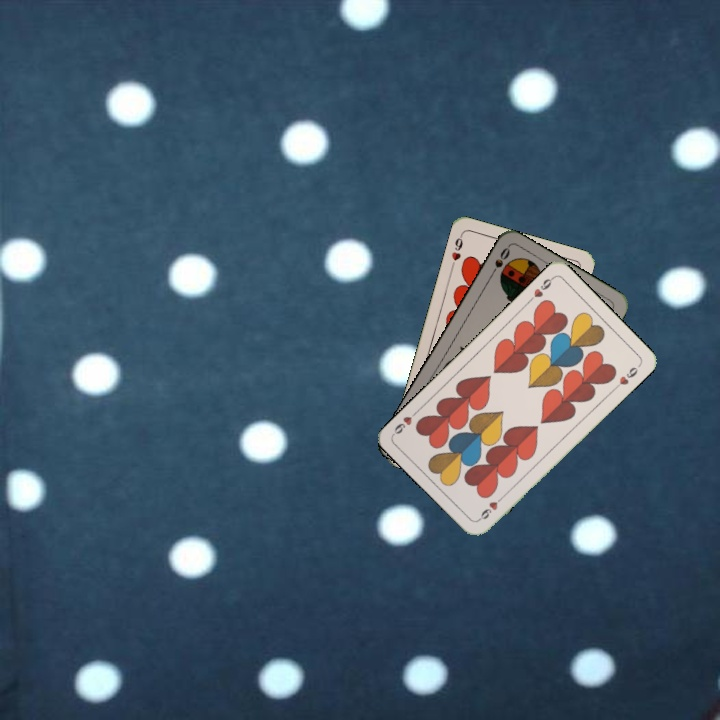H9: (524, 273, 557, 305), (474, 492, 507, 523), (447, 230, 465, 270)
SO: (486, 243, 513, 280)
